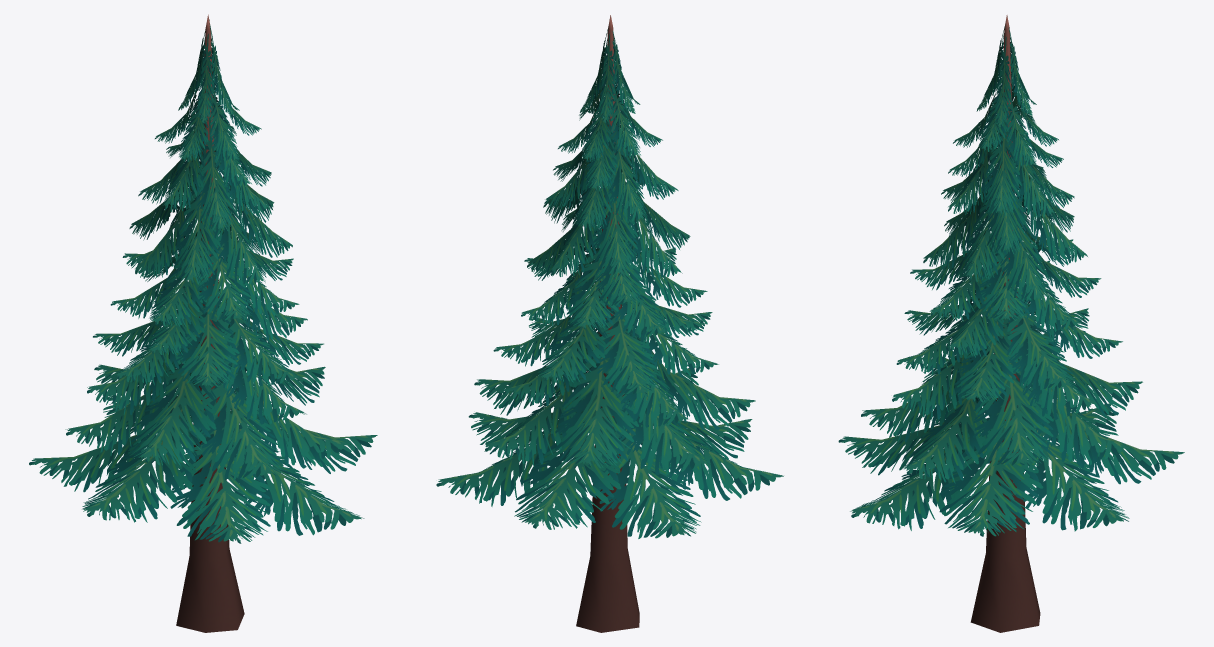
The model's file is Pine_Tree_1D.fbx.
The picture shows the model from 3 angles, left to right: view 1: azimuth 30°, elevation 25°; view 2: azimuth 150°, elevation 25°; view 3: azimuth 270°, elevation 25°; orthographic projection.
Parts seen in each view (by area): view 1: Pine_Tree_1D; view 2: Pine_Tree_1D; view 3: Pine_Tree_1D.
Boxes of the visible parts, left/top/right/bottom form: Pine_Tree_1D: left=29, top=14, right=377, bottom=632; Pine_Tree_1D: left=436, top=15, right=783, bottom=632; Pine_Tree_1D: left=838, top=15, right=1184, bottom=632.
Size of the model in its own units: 386 by 681 by 382.
